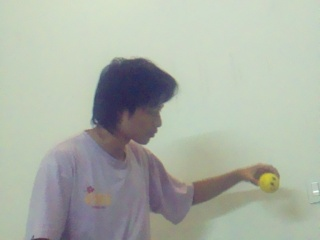ball: (259, 173, 279, 192)
